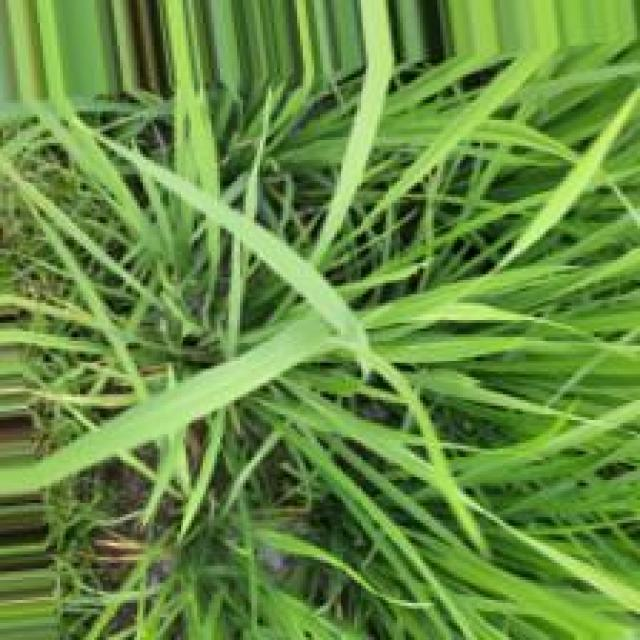HealthyLeaf: (86, 128, 374, 381), (37, 311, 348, 484)
